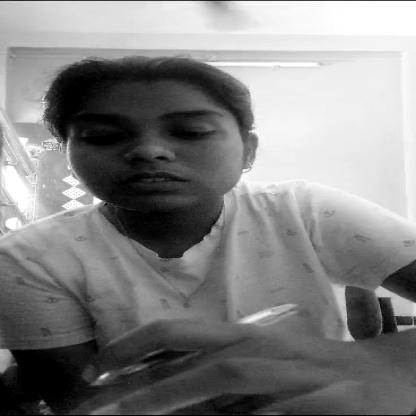Normal: (71, 96, 244, 210)
